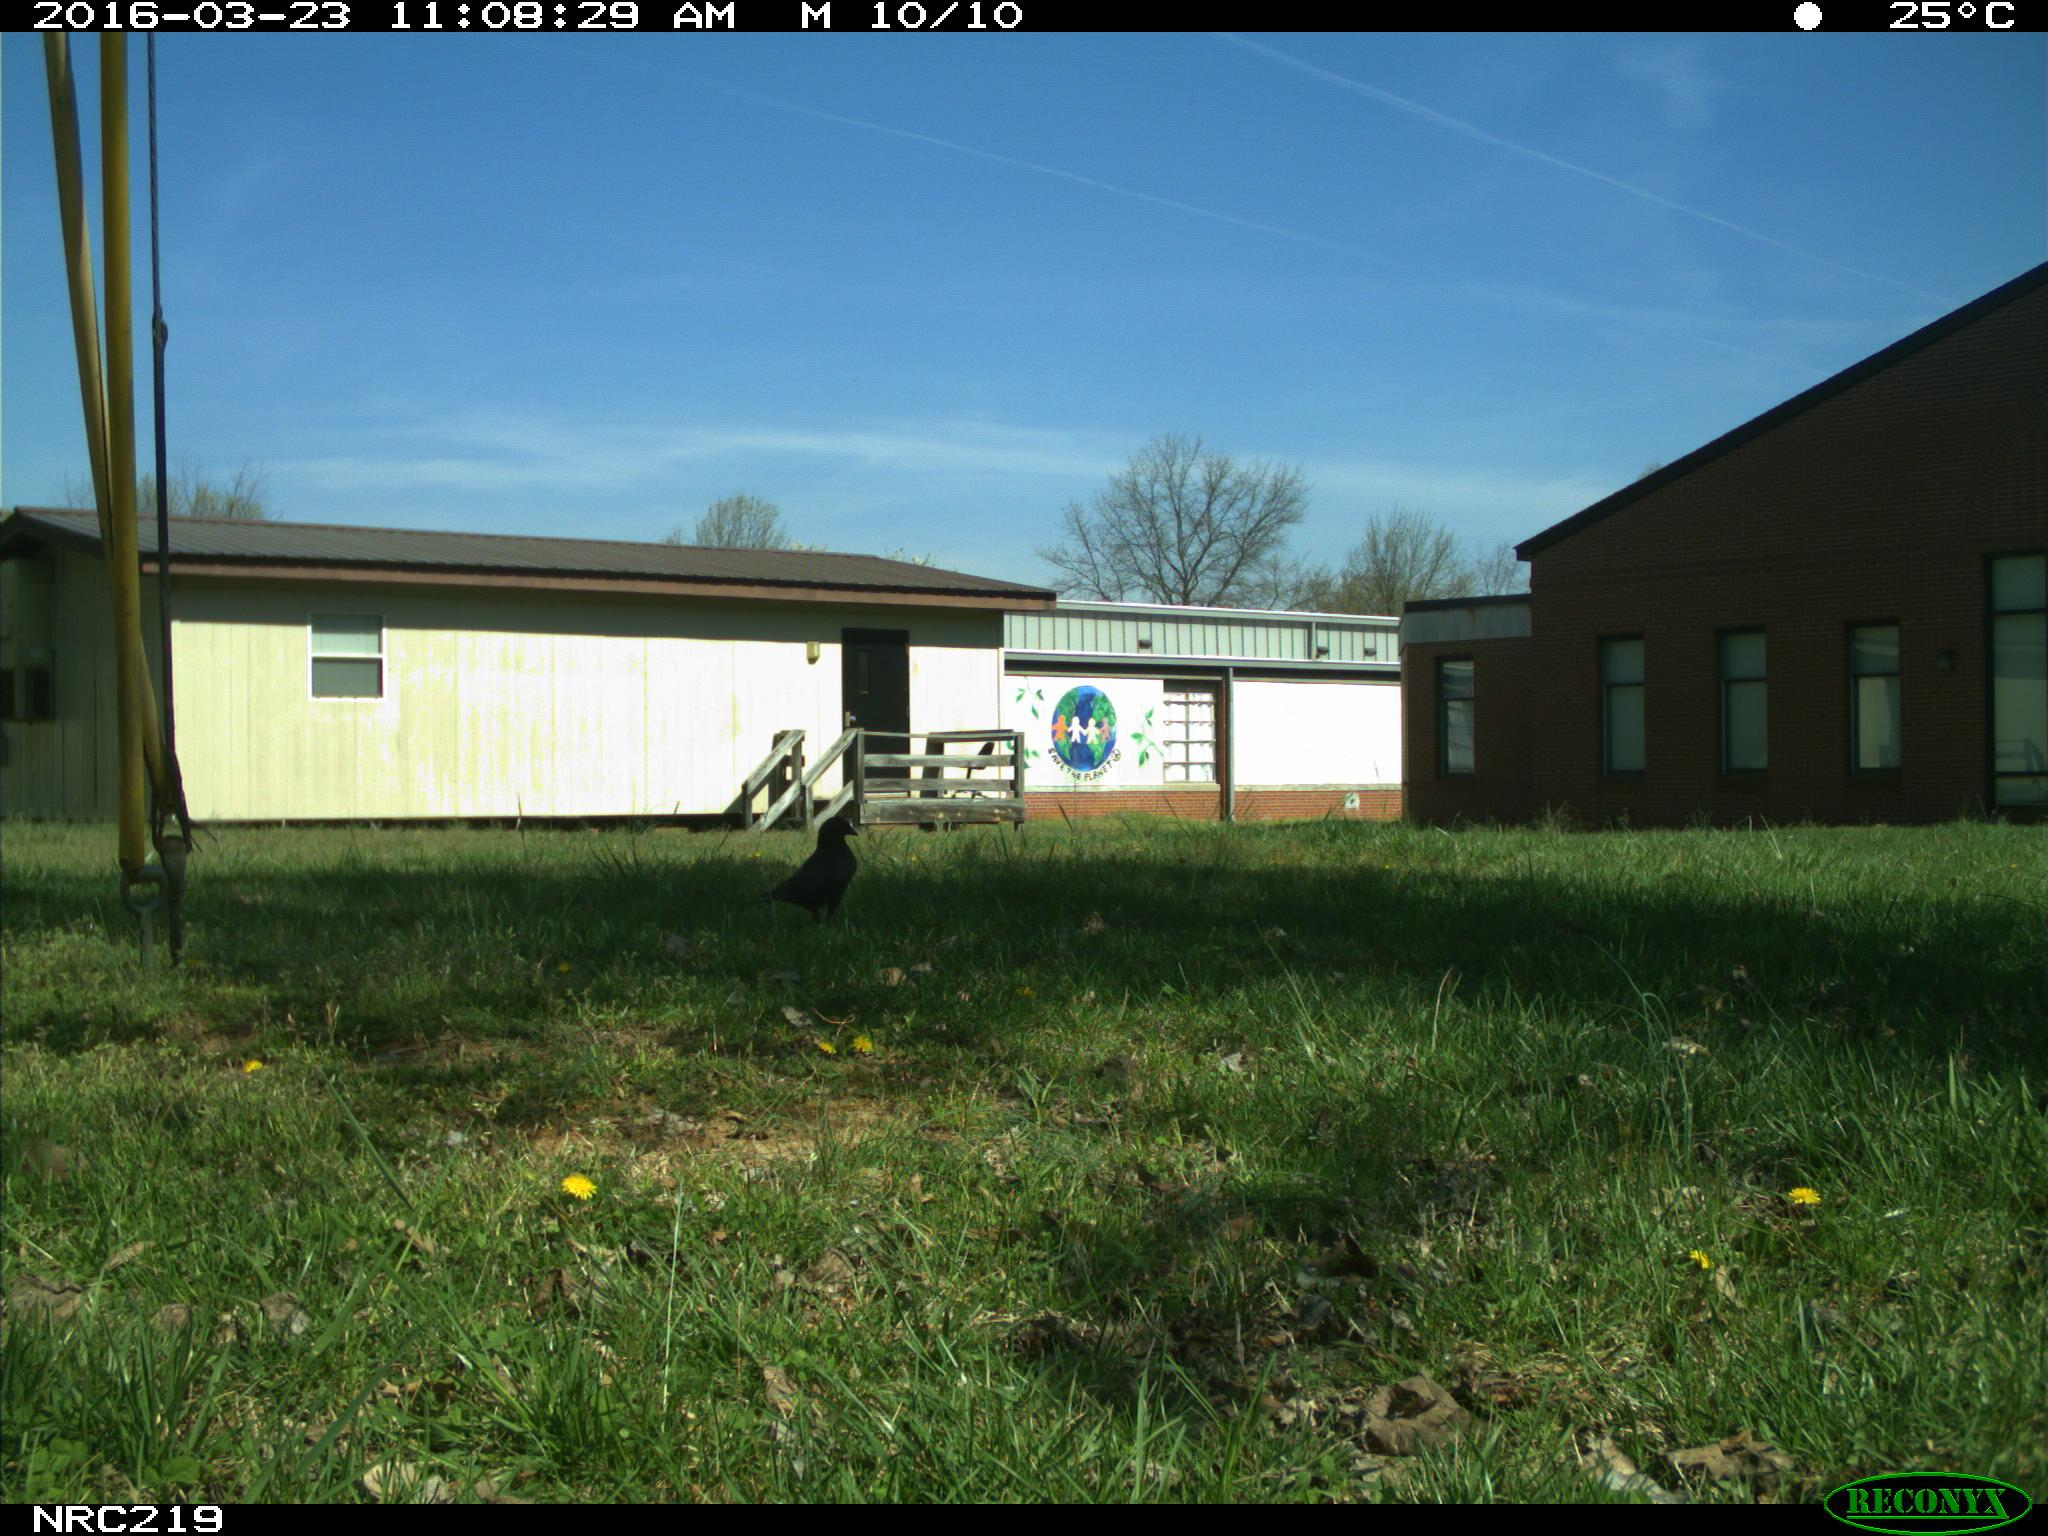Animal: (764, 821, 861, 933)
